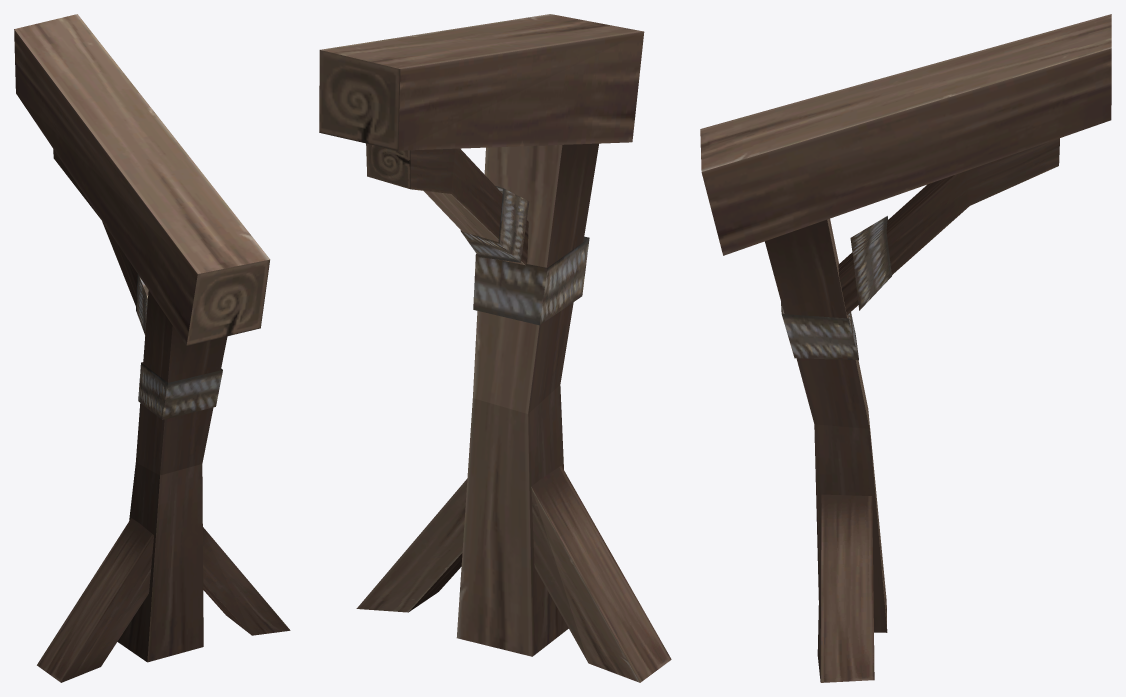
File: bandit_support_01.fbx
3 views of the same model, side by side, from view 1: azimuth 30°, elevation 25°; view 2: azimuth 150°, elevation 25°; view 3: azimuth 270°, elevation 25° (orthographic). The views are drawn at different scales.
Parts seen in each view (by area): view 1: obj0.725; view 2: obj0.725; view 3: obj0.725.
Boxes of the visible parts, left/top/right/bottom form: obj0.725: left=14, top=14, right=290, bottom=682; obj0.725: left=319, top=14, right=671, bottom=682; obj0.725: left=700, top=14, right=1111, bottom=682.
Size of the model in its own units: 2.79 by 6.33 by 3.99.
